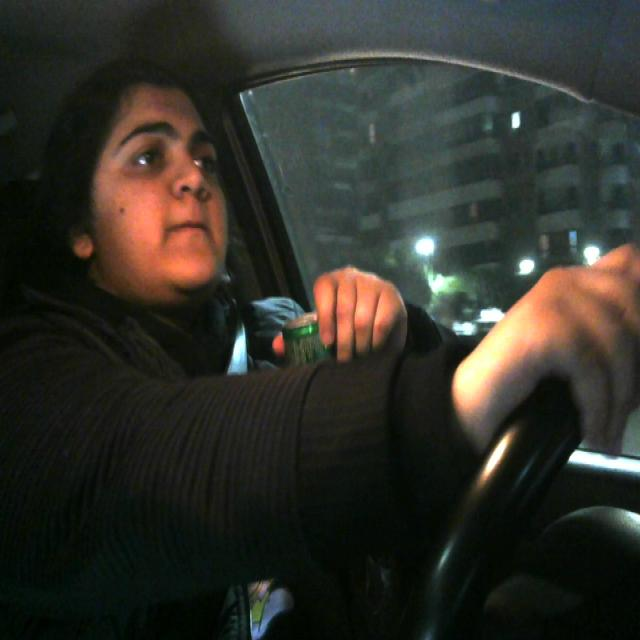drinking: (283, 307, 346, 492)
